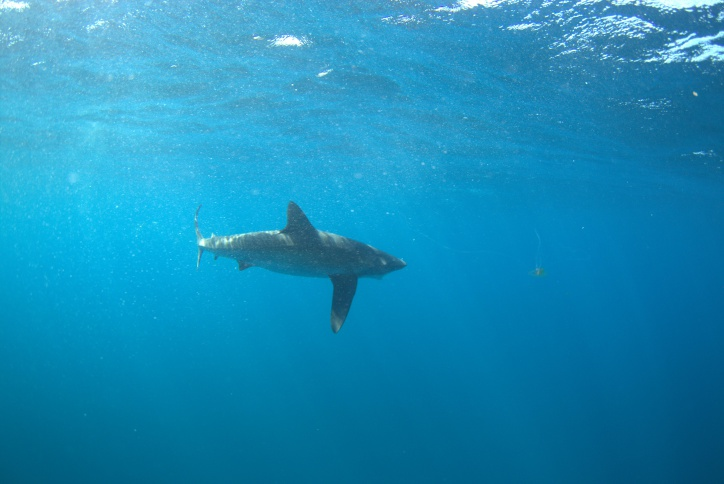Sedoso: (178, 196, 420, 338)
